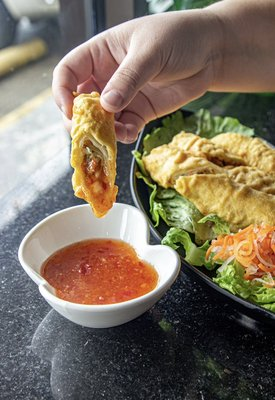soup: (70, 92, 119, 220)
sushi: (18, 202, 182, 330)
